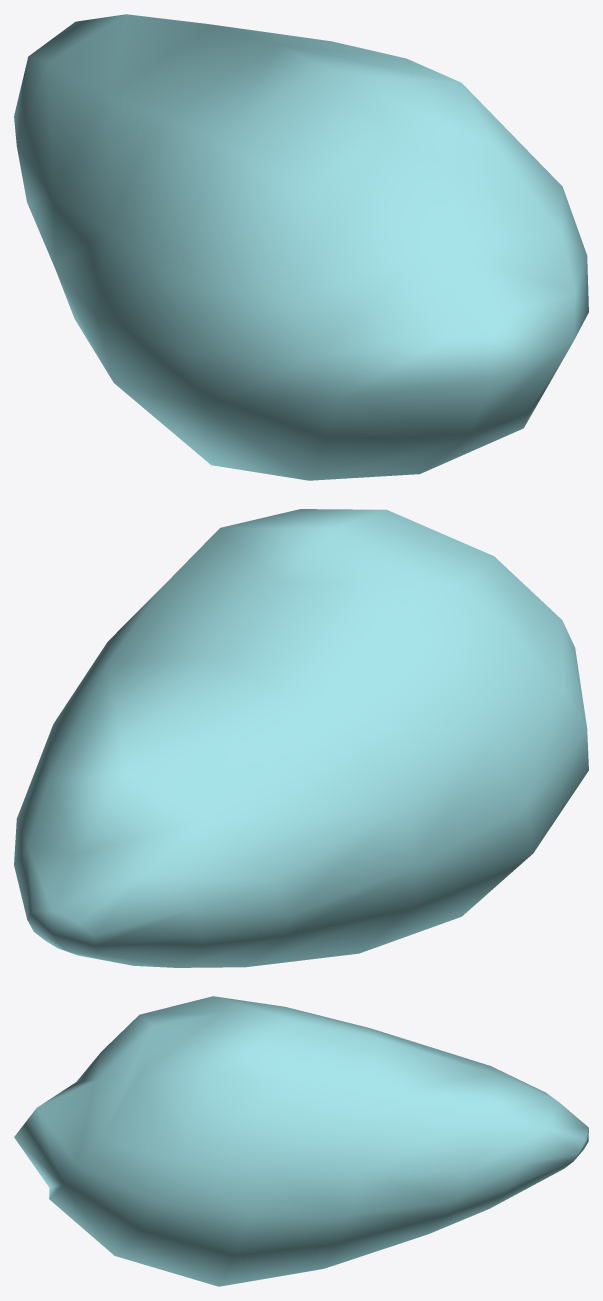
File: C.Fan.fbx
The picture shows the model from 3 angles, top to bottom: view 1: azimuth 30°, elevation 25°; view 2: azimuth 150°, elevation 25°; view 3: azimuth 270°, elevation 25°; orthographic projection. The views are drawn at different scales.
Parts seen in each view (by area): view 1: Fan_low_LOD0; view 2: Fan_low_LOD0; view 3: Fan_low_LOD0.
Part boxes in pixels (x1,y1,x2,y2): Fan_low_LOD0: [14, 14, 588, 480]; Fan_low_LOD0: [14, 509, 588, 967]; Fan_low_LOD0: [14, 996, 588, 1286].
Size of what is drawn, in the model's own units: 0.2809 by 0.1371 by 0.1581.
